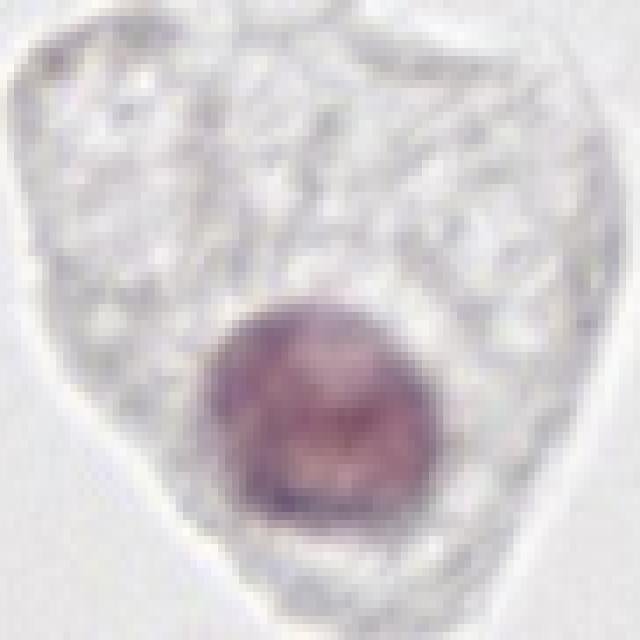nucleus: (192, 304, 451, 550)
